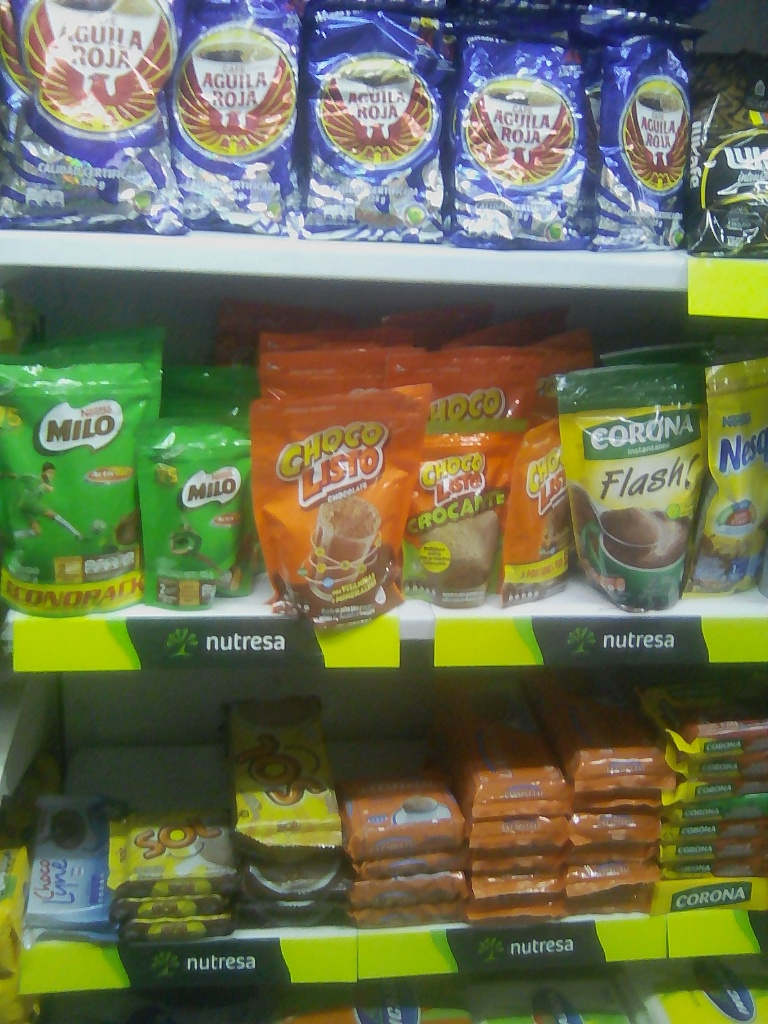COL0170102DYP10000: (414, 420, 508, 611)
COL0170103DYP20000: (252, 383, 425, 622)
COL0170203DYP10000: (137, 419, 265, 603)
COL0170203DYP25000: (4, 364, 153, 616)
